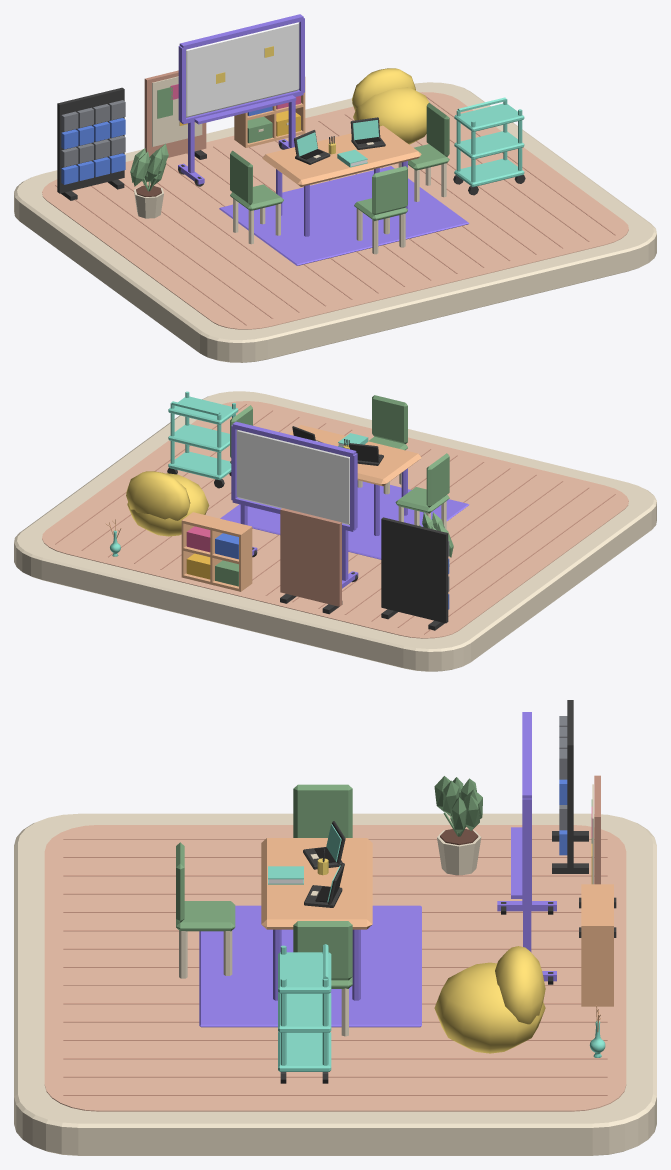
3 renders of one model, top to bottom at view 1: azimuth 30°, elevation 25°; view 2: azimuth 150°, elevation 25°; view 3: azimuth 270°, elevation 25°, orthographic. The views are drawn at different scales.
Visible parts, largest first — view 1: COM-02 Floor Surface, COM-01 Rounded Base Direct, Rug, Writing surface, Rounded table top, Beanbag shell, Panel, Pot, Backrest.002, Canvas, Panel.001, Back bolster (+12 smaller); view 2: COM-02 Floor Surface, COM-01 Rounded Base Direct, Writing surface, Panel, Panel.001, Rug, Back bolster, Rounded table top, Beanbag shell, Backrest.002, Tray, Tray.001 (+14 smaller); view 3: COM-02 Floor Surface, COM-01 Rounded Base Direct, Rug, Rounded table top, Beanbag shell, Pot, Backrest, Back bolster, Cubbies divider.002, Backrest.001, Tray.002, Tray.001 (+13 smaller).
Boxes of the visible parts, x1,y1,x2,y2 form: COM-02 Floor Surface: (42,92,628,329); COM-01 Rounded Base Direct: (14,82,656,362); Rug: (219,166,469,265); Writing surface: (186,22,299,117); Rounded table top: (262,125,421,186); Beanbag shell: (353,87,429,144); Panel: (57,87,124,193); Pot: (130,143,168,218); Backrest.002: (372,166,407,215); Canvas: (152,76,202,146); Panel.001: (144,70,206,157); Back bolster: (352,68,415,110); COM-02 Floor Surface: (42,401,628,638); COM-01 Rounded Base Direct: (14,391,656,671); Writing surface: (236,429,349,525); Panel: (381,517,448,623); Panel.001: (280,508,341,606); Rug: (220,481,468,559); Back bolster: (126,471,190,520); Rounded table top: (288,425,421,486); Beanbag shell: (127,473,209,536); Backrest.002: (372,395,407,443); Tray: (168,451,231,480); Tray.001: (168,424,229,452); COM-02 Floor Surface: (44,825,626,1111); COM-01 Rounded Base Direct: (14,813,656,1155); Rug: (199,905,421,1027); Rounded table top: (261,838,372,929); Beanbag shell: (434,962,545,1053); Pot: (434,776,482,875); Backrest: (293,784,352,837); Back bolster: (495,946,545,1024); Cubbies divider.002: (581,925,613,1006); Backrest.001: (293,921,352,980); Tray.002: (278,952,331,993); Tray.001: (278,992,331,1032).
Bounding box in the file's own units: 6 × 2.04 × 5.2.
1 material, 1 textured.
